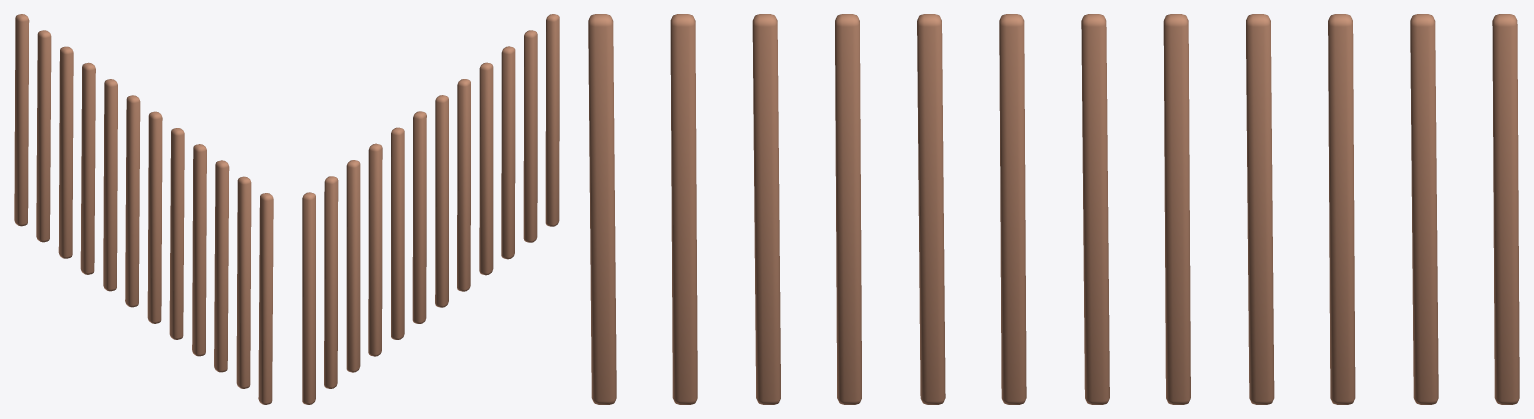
File: Headboard_2.fbx
3 views of the same model, side by side, from view 1: azimuth 30°, elevation 25°; view 2: azimuth 150°, elevation 25°; view 3: azimuth 270°, elevation 25° (orthographic). The views are drawn at different scales.
Parts seen in each view (by area): view 1: Headboard_2; view 2: Headboard_2; view 3: Headboard_2.
Part boxes in pixels (x1=…): Headboard_2: x1=14, y1=14, x2=273, y2=404; Headboard_2: x1=302, y1=14, x2=559, y2=404; Headboard_2: x1=588, y1=14, x2=1519, y2=404.
Bounding box in the file's own units: 3.07 × 58.12 × 126.
